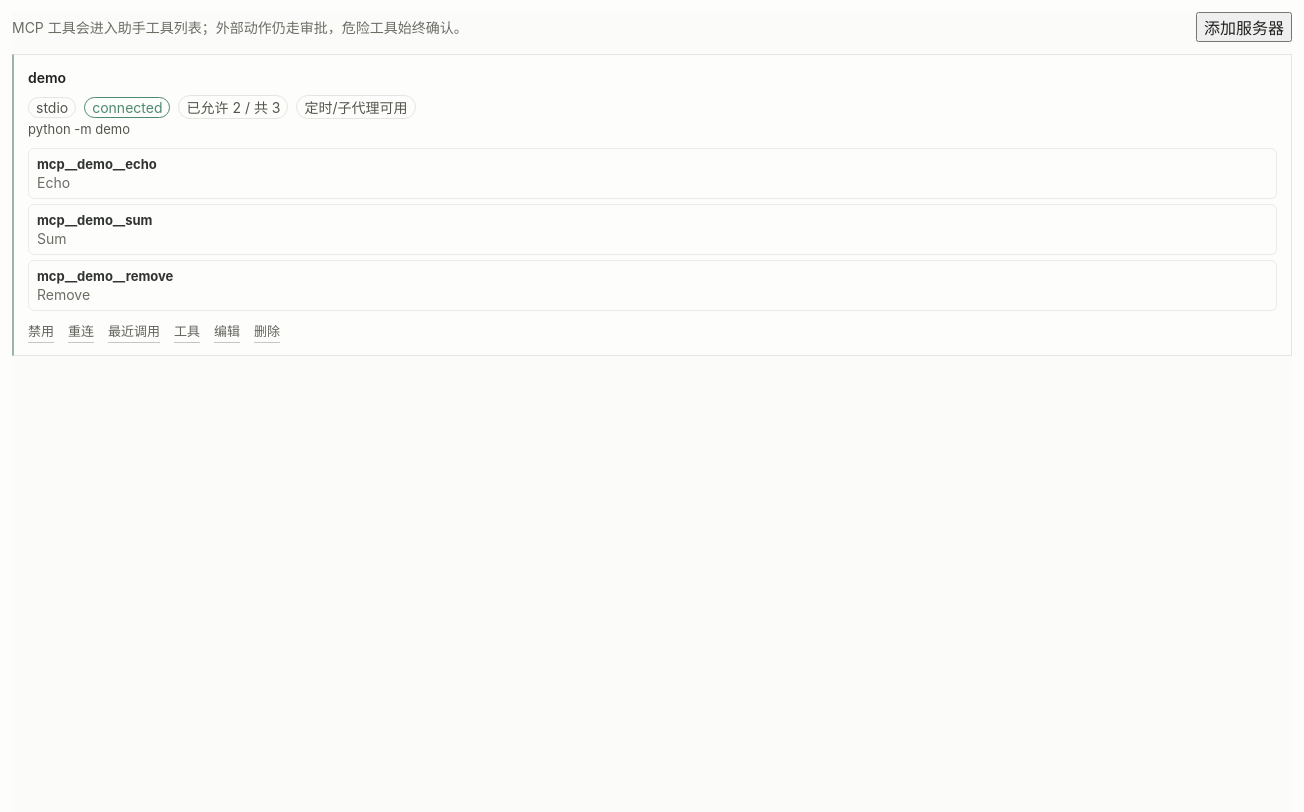
Test: F2 保存工具范围：请求体是三态之一 › 没有任何改动时保存：零请求，只给一句提示
Click the button "工具".
click(187, 331)  # box [174,319,200,343]
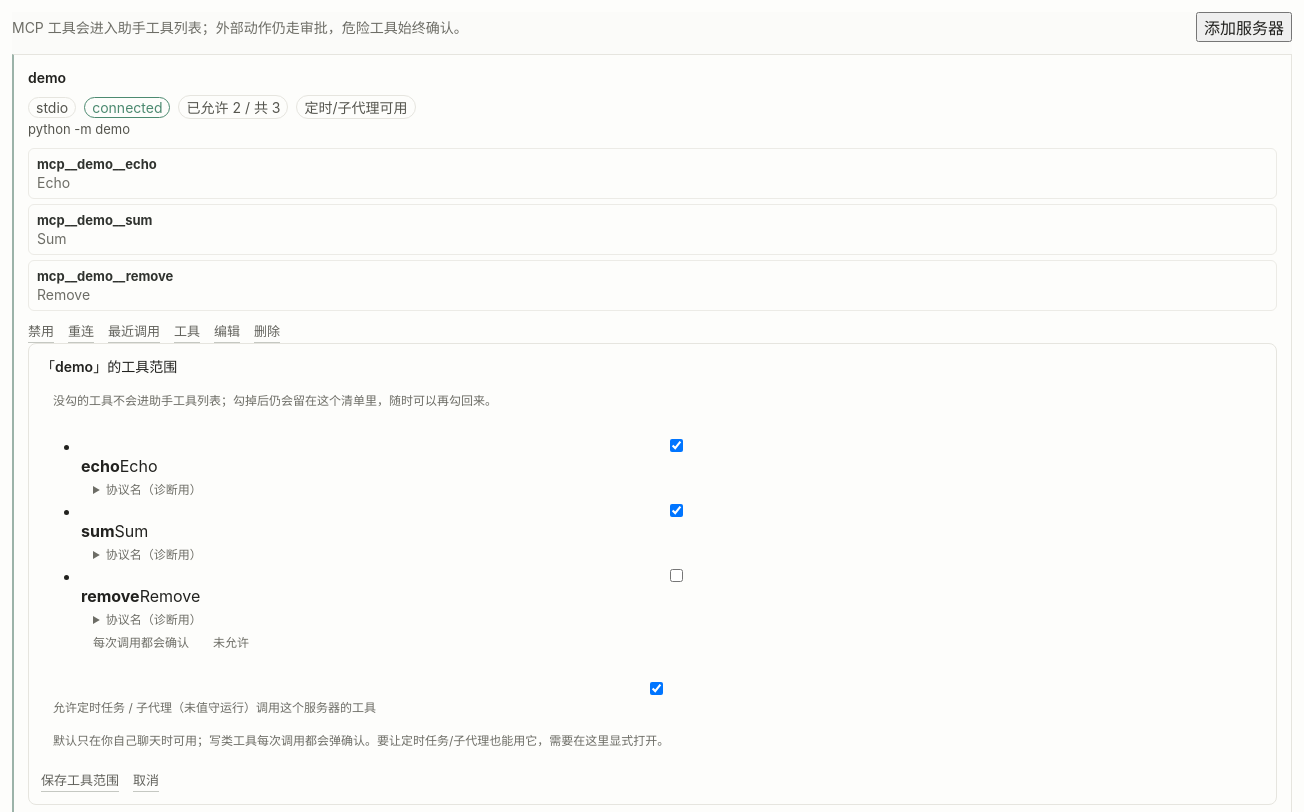
Click the button "保存工具范围".
click(80, 780)  # box [41,768,119,792]
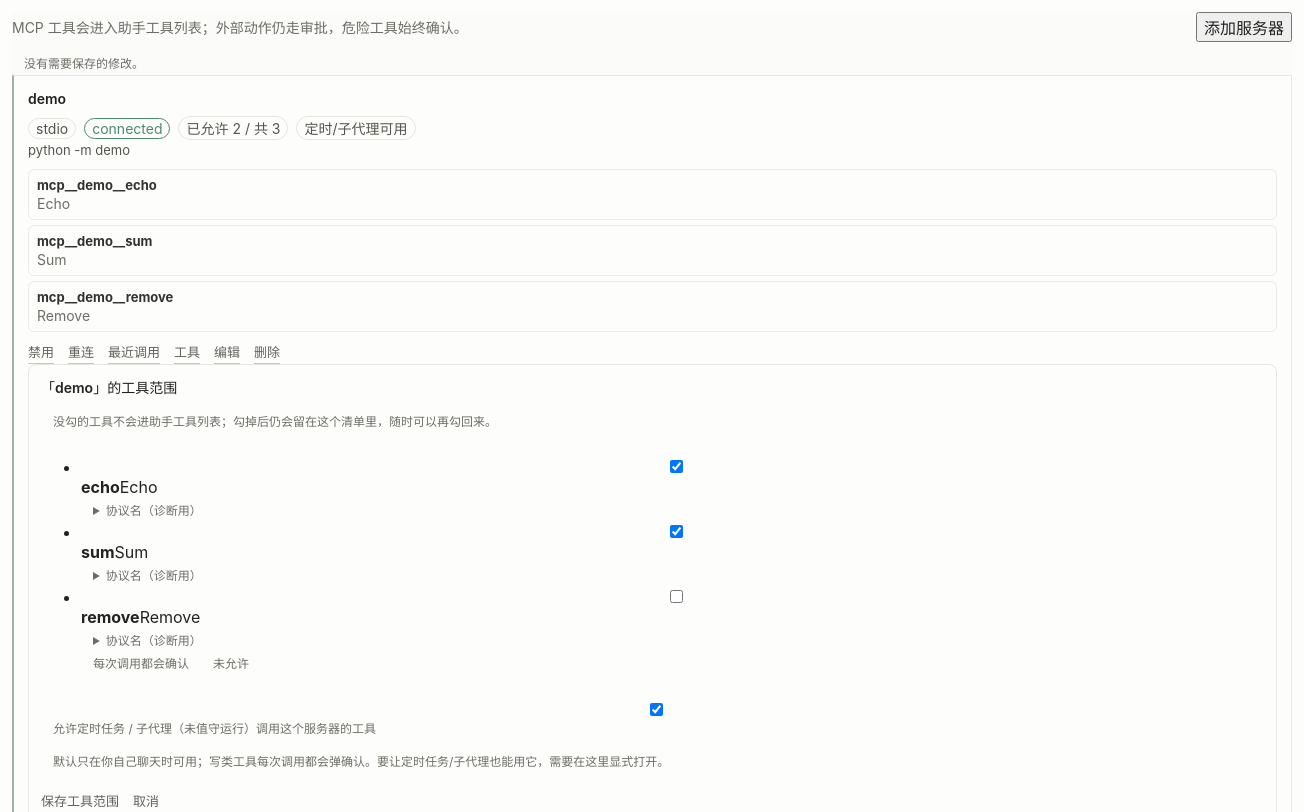
expect the text "没有需要保存的修改。" is shown: met, box [24,56,144,71]
